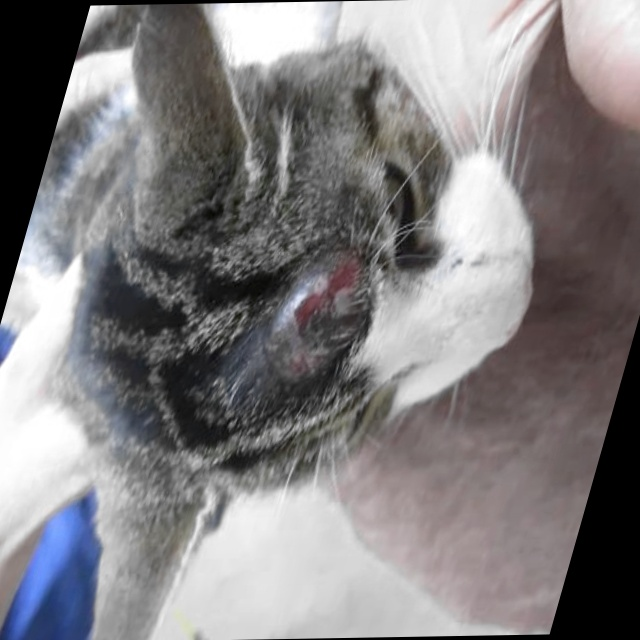lump_and_bump: (248, 242, 379, 397)
